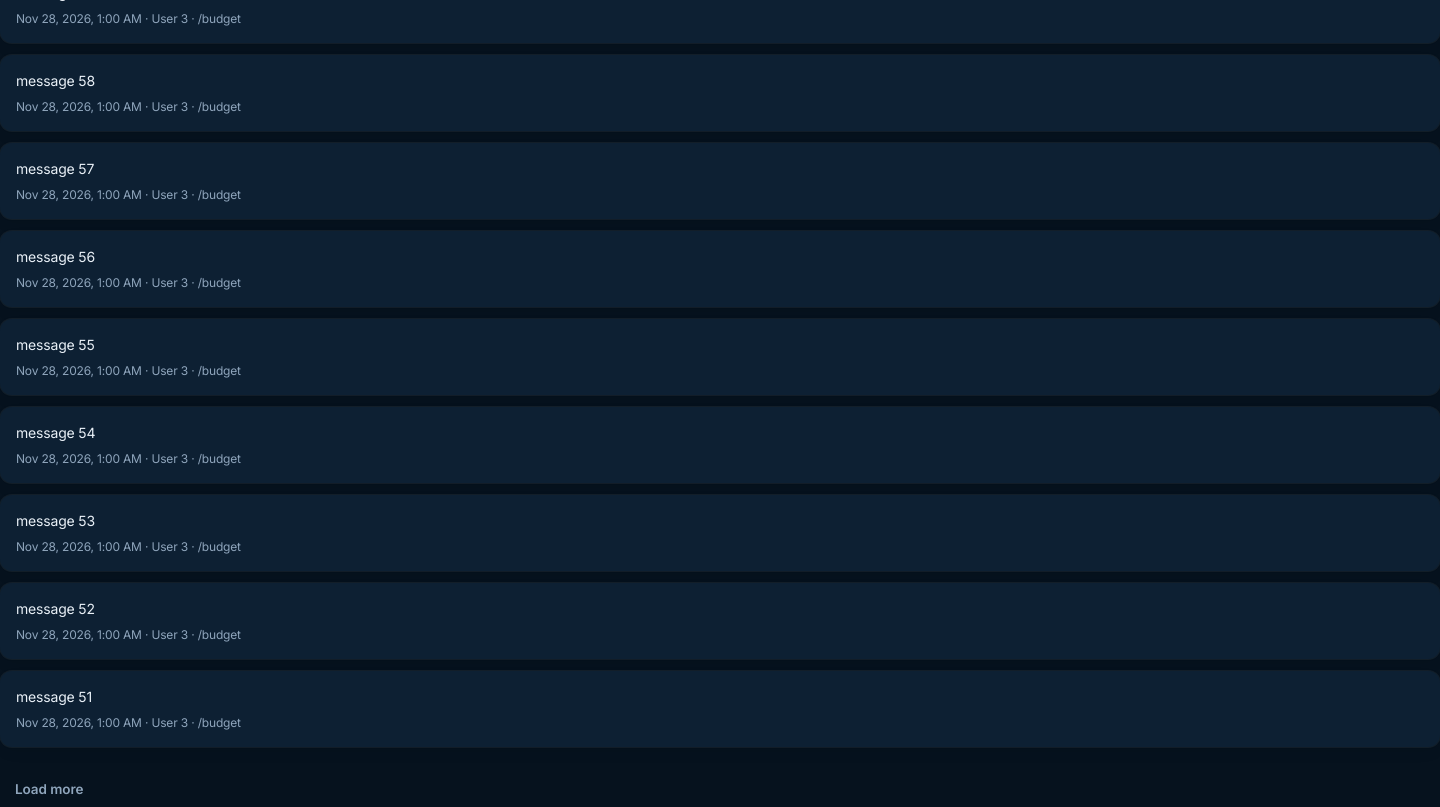
Test case: FeedbackInboxPage › loads the next page from the last id seen
(page scrolled)
Click the button "Load more" at (49, 788), box [0,770,98,806]
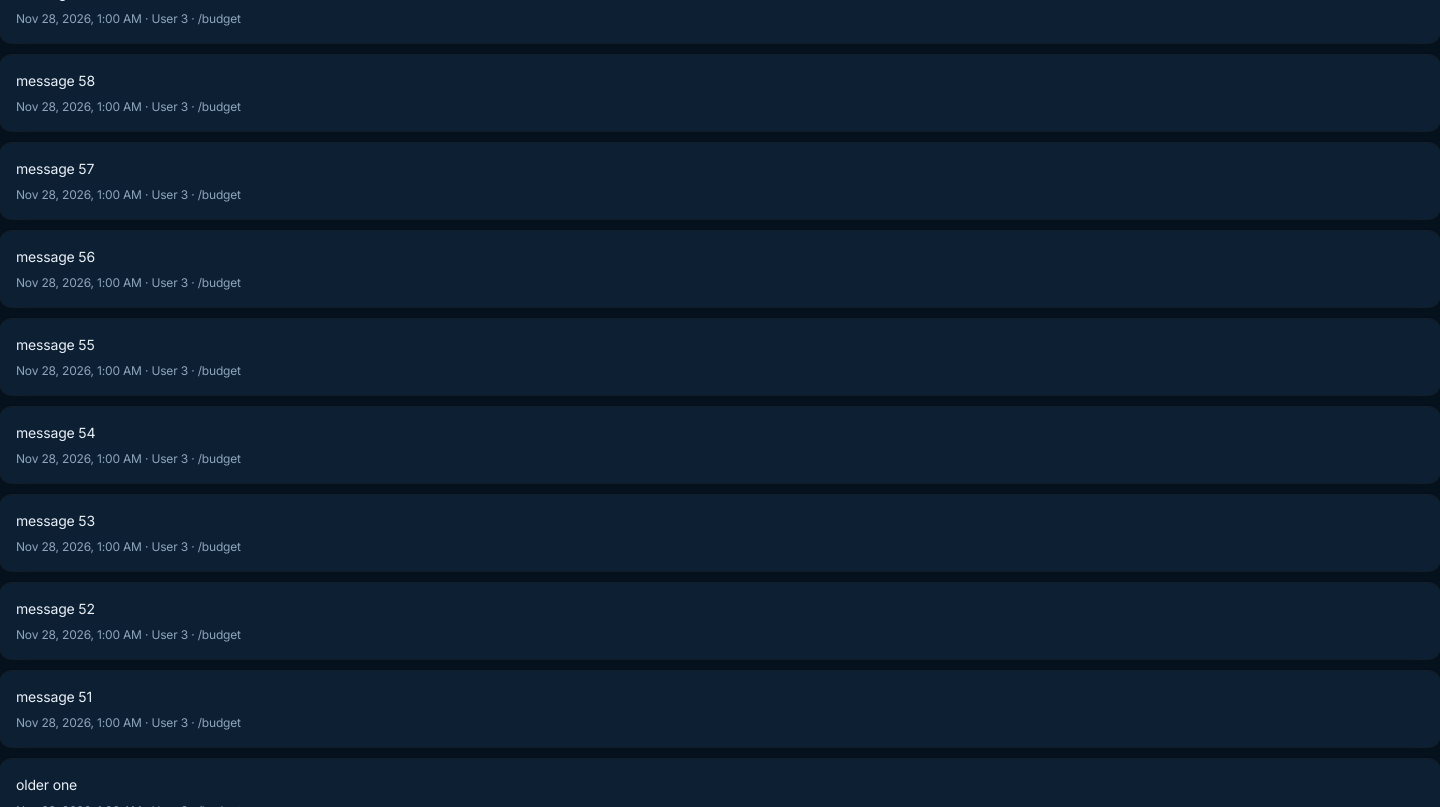
Check: the text "older one" is shown, box [16,776,77,792]
